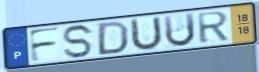D: (96, 20, 131, 57)
F: (27, 25, 62, 64)
R: (195, 10, 231, 46)
S: (62, 23, 96, 60)
U: (162, 11, 197, 49), (130, 15, 165, 53)
